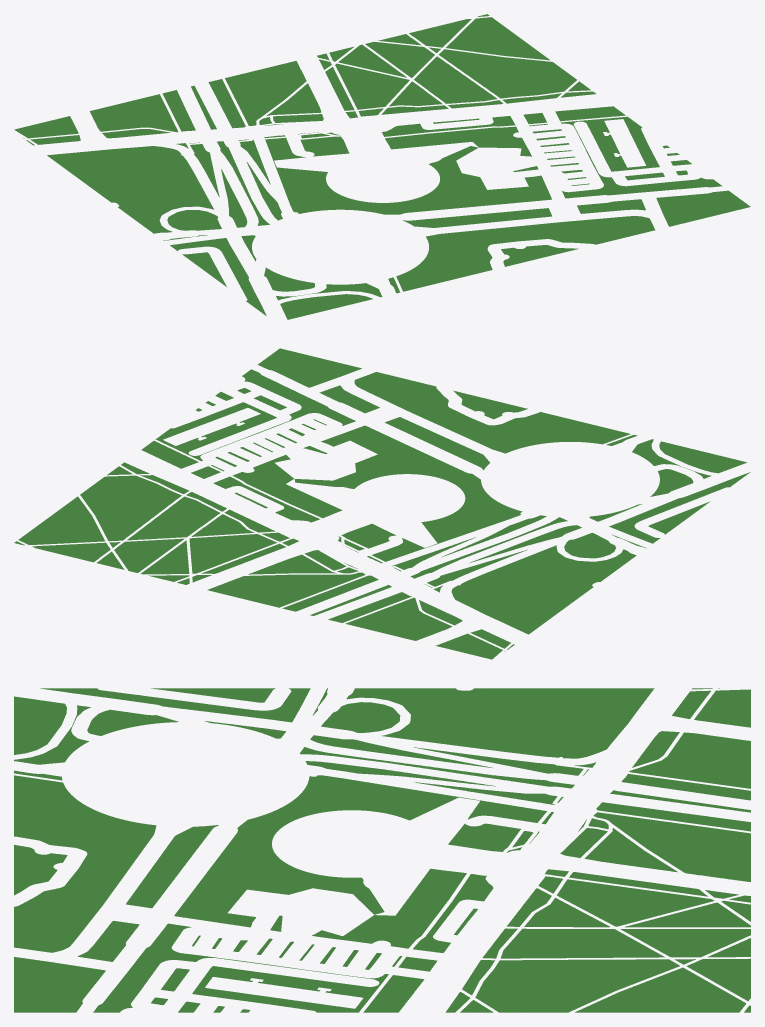
Rendered from BRASILIA_Grass.fbx.
3 views of the same model, one above another, from view 1: azimuth 30°, elevation 25°; view 2: azimuth 150°, elevation 25°; view 3: azimuth 270°, elevation 25° (orthographic). The views are drawn at different scales.
Parts seen in each view (by area): view 1: BRASILIA_Grass; view 2: BRASILIA_Grass; view 3: BRASILIA_Grass.
Boxes of the visible parts, x1,y1,x2,y2 form: BRASILIA_Grass: (14, 14, 750, 319); BRASILIA_Grass: (14, 348, 750, 659); BRASILIA_Grass: (14, 688, 750, 1012).
Bounding box in the file's own units: 500 × 0.3158 × 480.
